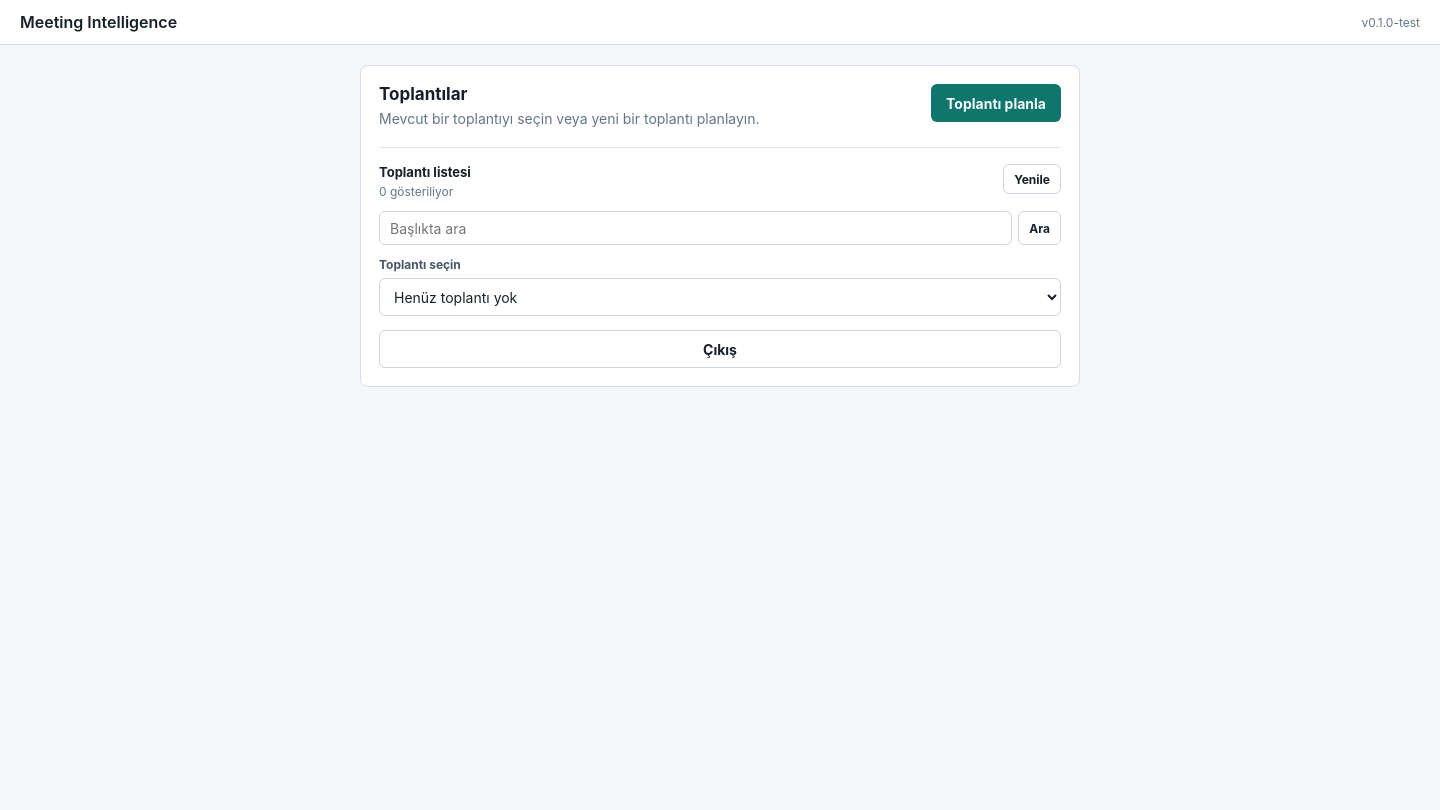
it: App recorder readiness › canonical meetingId yoksa meeting contract oluşturma aksiyonunu açar
The width and height of the screenshot is (1440, 810).
Expected: the text "Mevcut bir toplantıyı seçin veya yeni bir toplantı planlayın." is shown, [379,109,760,129]
Click the button "Toplantı planla": (996,103) [931,84,1061,122]
(page scrolled)
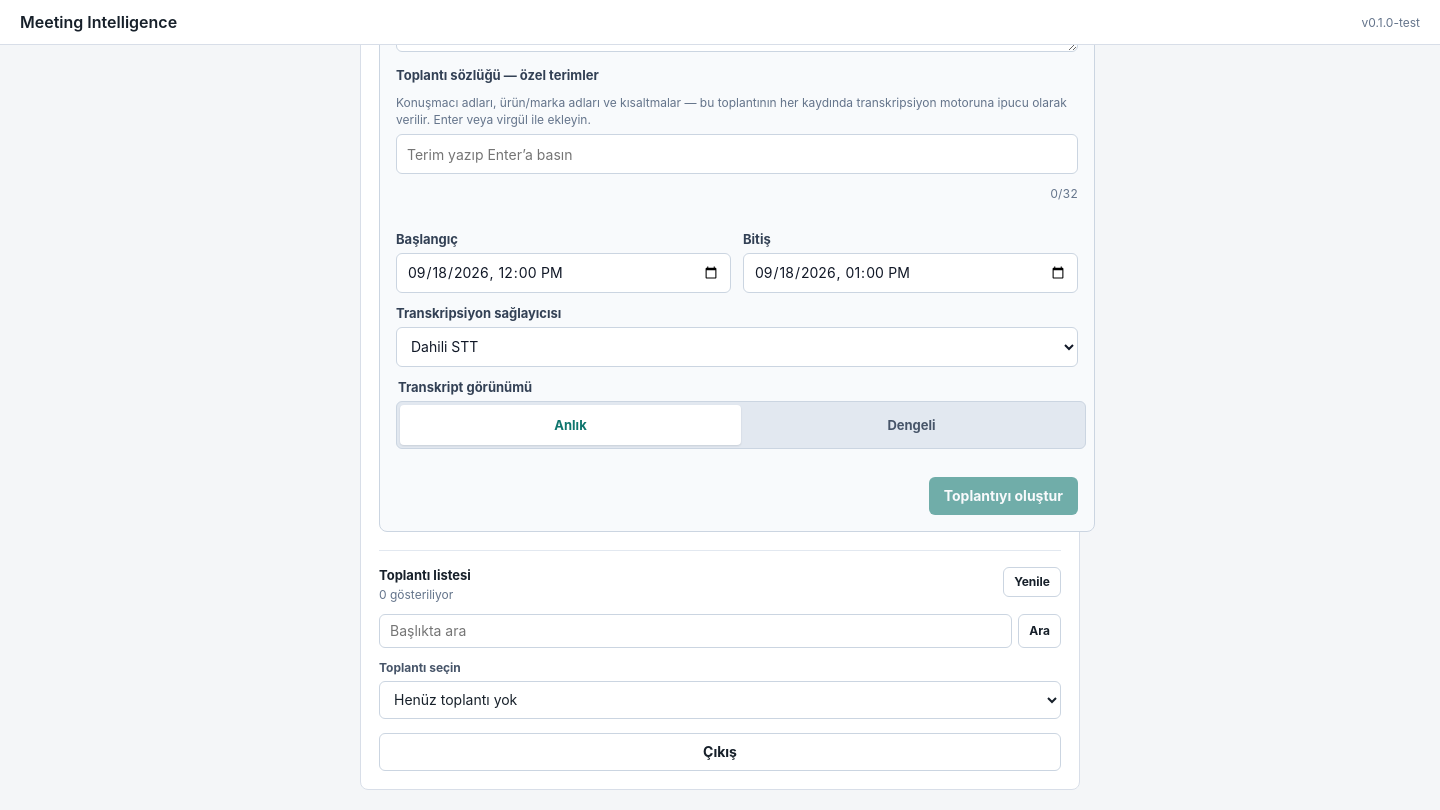
Expected: the button "Toplantıyı oluştur" is disabled, [929,477,1078,515]
